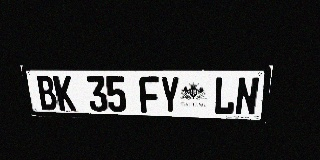3: (86, 76, 108, 112)
5: (105, 76, 127, 112)
B: (34, 76, 59, 110)
F: (139, 76, 160, 113)
K: (53, 76, 76, 111)
L: (213, 77, 237, 115)
N: (234, 77, 260, 116)
Y: (159, 76, 180, 113)
